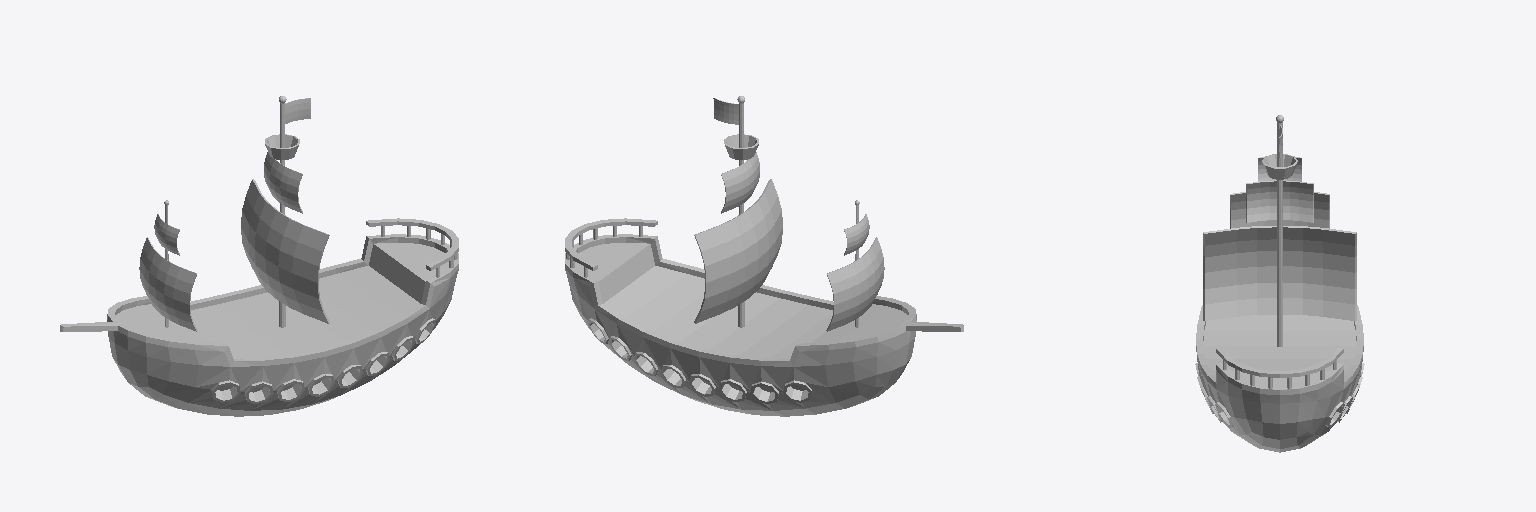
Rendered from botecito.obj.
3 views of the same model, side by side, from view 1: azimuth 30°, elevation 25°; view 2: azimuth 150°, elevation 25°; view 3: azimuth 270°, elevation 25° (orthographic).
Parts seen in each view (by area): view 1: Plane.004; view 2: Plane.004; view 3: Plane.004.
Boxes of the visible parts, x1=… form: Plane.004: x1=60, y1=96, x2=458, y2=416; Plane.004: x1=565, y1=96, x2=963, y2=416; Plane.004: x1=1195, y1=115, x2=1364, y2=452.
Size of the model in its own units: 4.84 by 3.62 by 1.81.